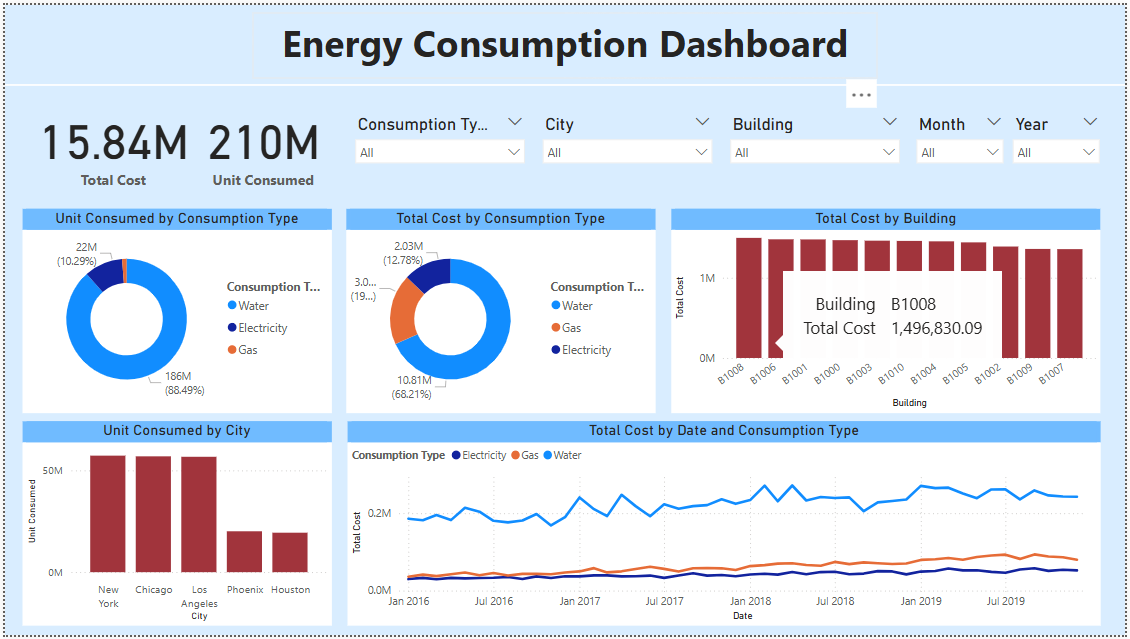

This screenshot's page, from the dashboard's own definition file:
{"tool":"powerbi","page":{"name":"Overview","canvas":[1280,720],"ordinal":0},"visuals":[{"type":"shape","box":[0,74.6,1280.3,34.2],"z":0},{"type":"textbox","box":[282.5,8.8,715,75],"z":1000},{"type":"card","fields":{"Values":["Energy Consumptions.Total Cost"]},"box":[19.6,101.5,207.9,118.6],"z":2000},{"type":"slicer","fields":{"Values":["Building Master.City"]},"box":[604.1,119.8,214,81.9],"z":3000},{"type":"slicer","fields":{"Values":["Building Master.Building"]},"box":[818.1,119.8,214,81.9],"z":4000},{"type":"slicer","fields":{"Values":["Energy Consumptions.Month"]},"box":[1032.1,119.8,119.8,81.9],"z":5000},{"type":"slicer","fields":{"Values":["Energy Consumptions.Year"]},"box":[1140.9,119.8,119.8,81.9],"z":6000},{"type":"lineChart","fields":{"Category":["Energy Consumptions.Date"],"Y":["Energy Consumptions.Total Cost"],"Series":["Energy Consumptions.Consumption Type"]},"box":[391.3,475.7,860.9,233.6],"z":7000},{"type":"clusteredColumnChart","fields":{"Category":["Building Master.City"],"Y":["Energy Consumptions.Unit Consumed"]},"box":[19.6,475.7,353.4,233.6],"z":8000},{"type":"donutChart","fields":{"Y":["Energy Consumptions.Total Cost"],"Category":["Energy Consumptions.Consumption Type"]},"box":[390.1,232.3,353.4,233.6],"z":9000},{"type":"clusteredColumnChart","fields":{"Category":["Energy Consumptions.Building"],"Y":["Energy Consumptions.Total Cost"]},"box":[761.8,232.3,490.4,233.6],"z":10000},{"type":"card","fields":{"Values":["Energy Consumptions.Unit Consumed"]},"box":[192,101.5,207.9,118.6],"z":11000},{"type":"slicer","fields":{"Values":["Energy Consumptions.Consumption Type","Energy Consumptions.Consumption Type"]},"box":[390.1,119.8,214,81.9],"z":12000},{"type":"donutChart","fields":{"Category":["Energy Consumptions.Consumption Type"],"Y":["Energy Consumptions.Unit Consumed"]},"box":[19.6,232.3,353.4,233.6],"z":13000}]}

Visuals, with their boxes in screenshot pixels (x1, y1, x2, y2), scaled from the page's 1280x720 canvas onto the 1130x639 screenshot:
shape: box(0, 66, 1129, 97)
textbox: box(249, 8, 881, 74)
card - Energy Consumptions.Total Cost: box(17, 90, 201, 195)
slicer - Building Master.City: box(533, 106, 722, 179)
slicer - Building Master.Building: box(722, 106, 911, 179)
slicer - Energy Consumptions.Month: box(911, 106, 1017, 179)
slicer - Energy Consumptions.Year: box(1007, 106, 1113, 179)
lineChart - Energy Consumptions.Date x Energy Consumptions.Total Cost: box(345, 422, 1105, 630)
clusteredColumnChart - Building Master.City x Energy Consumptions.Unit Consumed: box(17, 422, 329, 630)
donutChart - Energy Consumptions.Total Cost x Energy Consumptions.Consumption Type: box(344, 206, 656, 413)
clusteredColumnChart - Energy Consumptions.Building x Energy Consumptions.Total Cost: box(673, 206, 1105, 413)
card - Energy Consumptions.Unit Consumed: box(170, 90, 353, 195)
slicer - Energy Consumptions.Consumption Type x Energy Consumptions.Consumption Type: box(344, 106, 533, 179)
donutChart - Energy Consumptions.Consumption Type x Energy Consumptions.Unit Consumed: box(17, 206, 329, 413)
